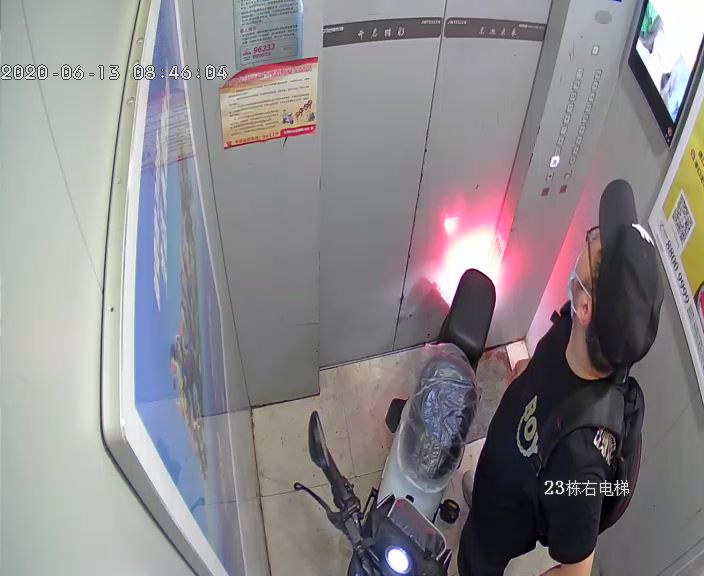Electric-bicycle: (290, 268, 494, 573)
